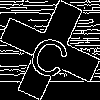C: (25, 25, 77, 82)
